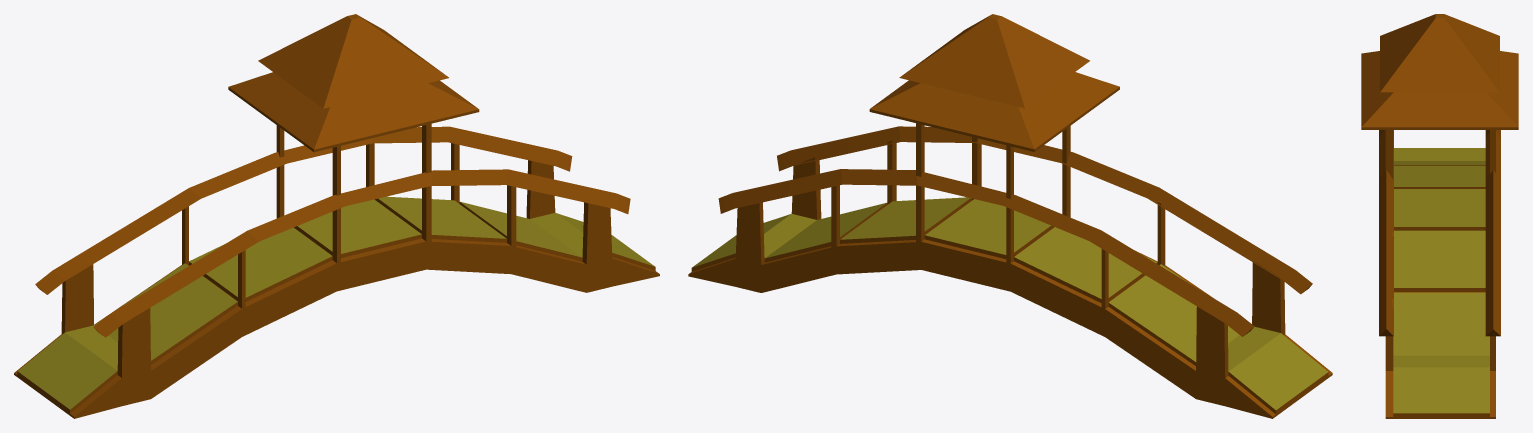
Rendered from FIL_ZenGarden_ZenBridge.fbx.
The picture shows the model from 3 angles, left to right: view 1: azimuth 30°, elevation 25°; view 2: azimuth 150°, elevation 25°; view 3: azimuth 270°, elevation 25°; orthographic projection. The views are drawn at different scales.
Visible parts, largest first — view 1: pCylinder12; view 2: pCylinder12; view 3: pCylinder12.
Part boxes in pixels (x1=…): pCylinder12: x1=14, y1=14, x2=659, y2=418; pCylinder12: x1=688, y1=14, x2=1332, y2=418; pCylinder12: x1=1361, y1=14, x2=1518, y2=418.
Size of the model in its own units: 50.18 by 24.98 by 12.73.
